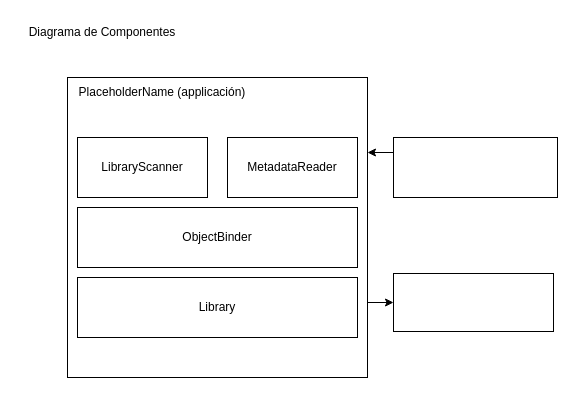
Image size: 575x395. Some labels were removed from this diagram. The box of each missing label's shape, as (x1, y1, x2, y2) in pixels:
External applications (pdf readers): (392, 272, 554, 332)
Storage: (392, 136, 558, 198)
